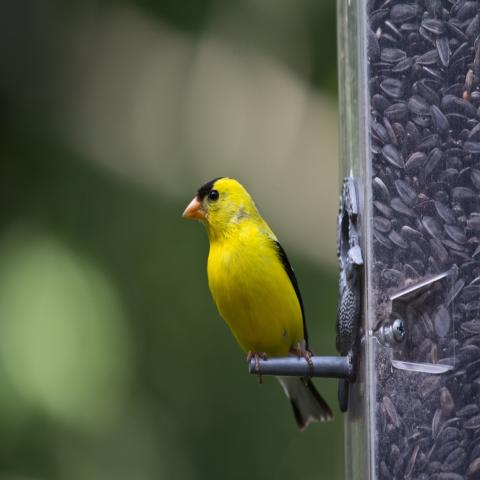bird: (180, 172, 336, 432)
